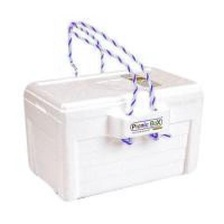foam_box: (15, 15, 210, 205)
